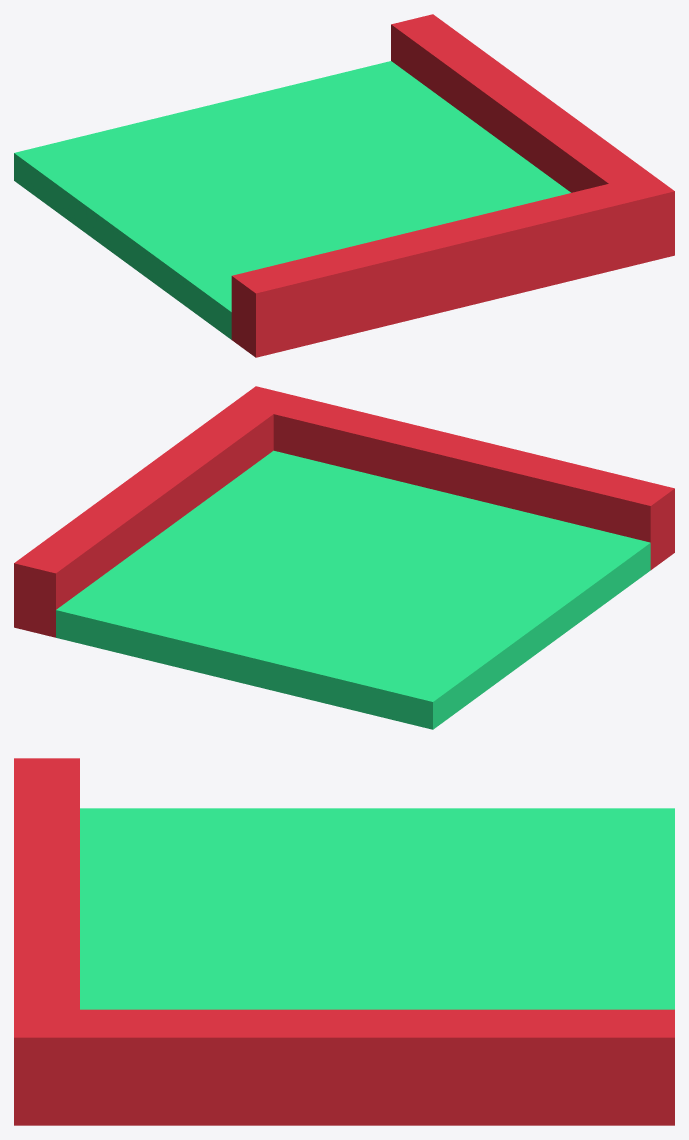
The model's file is corner.fbx.
The picture shows the model from 3 angles, top to bottom: view 1: azimuth 30°, elevation 25°; view 2: azimuth 150°, elevation 25°; view 3: azimuth 270°, elevation 25°; orthographic projection. The views are drawn at different scales.
Parts seen in each view (by area): view 1: corner; view 2: corner; view 3: corner.
Part boxes in pixels (x1=…): corner: x1=14, y1=14, x2=674, y2=357; corner: x1=14, y1=386, x2=674, y2=729; corner: x1=14, y1=758, x2=674, y2=1125.
Bounding box in the file's own units: 10 × 1.47 × 10.
